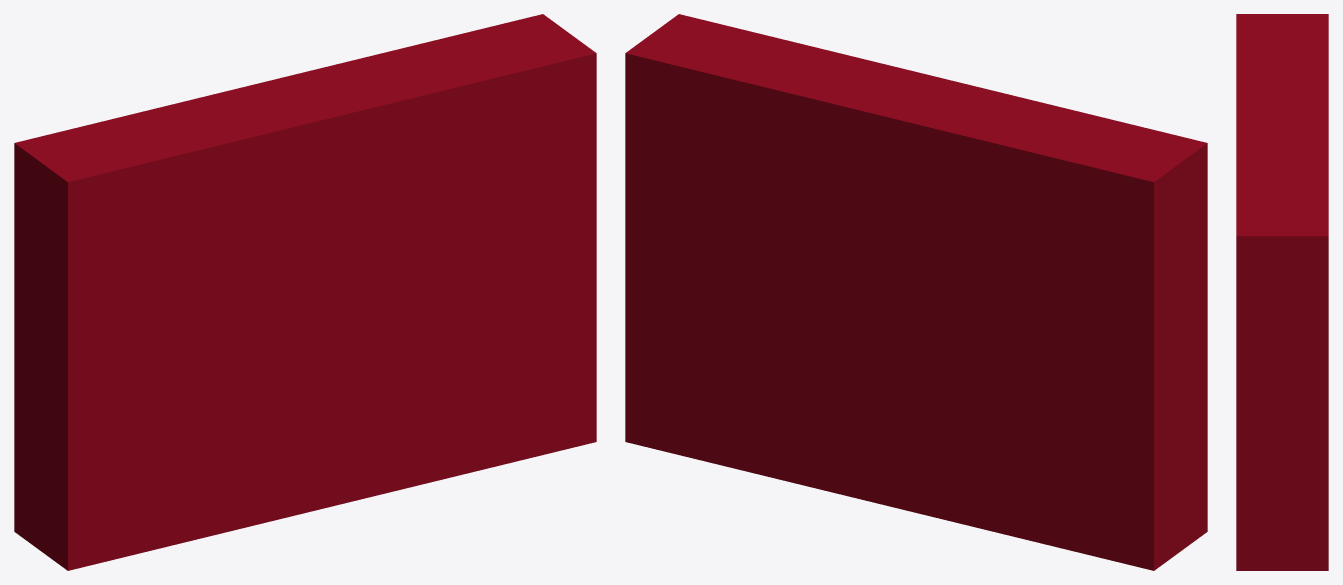
Rendered from Wall_R.fbx.
3 renders of one model, left to right at view 1: azimuth 30°, elevation 25°; view 2: azimuth 150°, elevation 25°; view 3: azimuth 270°, elevation 25°, orthographic. The views are drawn at different scales.
Visible parts, largest first — view 1: Wall_L47, Wall_L48, Wall_L19, Wall_L32, Wall_L22, Wall_L23, Wall_L36, Wall_L16, Wall_L28, Wall_L37, Wall_L58, Wall_L44 (+30 smaller); view 2: Wall_L24, Wall_L35, Wall_L12, Wall_L34, Wall_L47, Wall_L30, Wall_L13, Wall_L46, Wall_L20, Wall_L56, Wall_L31, Wall_L06 (+32 smaller); view 3: Wall_L16, Wall_L19, Wall_L09, Wall_L39, Wall_L47, Wall_L24, Wall_L28, Wall_L25, Wall_L12, Wall_L55, Wall_L04, Wall_L30 (+3 smaller).
Part boxes in pixels (<box>): Wall_L47: <box>356,38,493,188</box>; Wall_L48: <box>378,226,500,379</box>; Wall_L19: <box>491,78,596,218</box>; Wall_L32: <box>33,233,172,383</box>; Wall_L22: <box>245,260,368,383</box>; Wall_L23: <box>119,425,246,555</box>; Wall_L36: <box>136,295,245,410</box>; Wall_L16: <box>492,217,596,361</box>; Wall_L28: <box>180,102,284,229</box>; Wall_L37: <box>350,118,488,244</box>; Wall_L58: <box>283,323,409,439</box>; Wall_L44: <box>253,172,394,267</box>; Wall_L24: <box>625,139,793,328</box>; Wall_L35: <box>697,208,824,381</box>; Wall_L12: <box>792,75,915,236</box>; Wall_L34: <box>819,228,931,378</box>; Wall_L47: <box>722,40,914,175</box>; Wall_L30: <box>944,122,1066,252</box>; Wall_L13: <box>861,176,994,298</box>; Wall_L46: <box>931,340,1073,435</box>; Wall_L20: <box>1046,147,1125,302</box>; Wall_L56: <box>724,373,830,490</box>; Wall_L31: <box>1028,348,1115,486</box>; Wall_L06: <box>1096,219,1175,351</box>; Wall_L16: <box>1236,375,1328,532</box>; Wall_L19: <box>1236,257,1328,376</box>; Wall_L09: <box>1236,192,1328,257</box>; Wall_L39: <box>1236,502,1328,566</box>; Wall_L47: <box>1236,137,1328,194</box>; Wall_L24: <box>1249,338,1328,404</box>; Wall_L28: <box>1236,65,1314,104</box>; Wall_L25: <box>1236,14,1328,37</box>; Wall_L12: <box>1246,125,1328,165</box>; Wall_L55: <box>1236,38,1322,66</box>; Wall_L04: <box>1280,93,1328,130</box>; Wall_L30: <box>1261,58,1328,93</box>.
Size of the model in its own units: 2.85 by 2 by 0.5.
